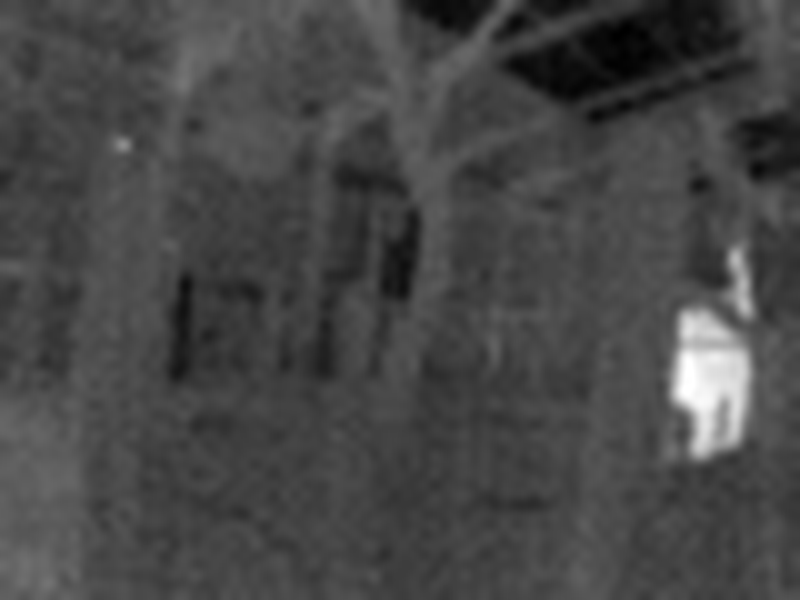elephant: (636, 247, 787, 451)
